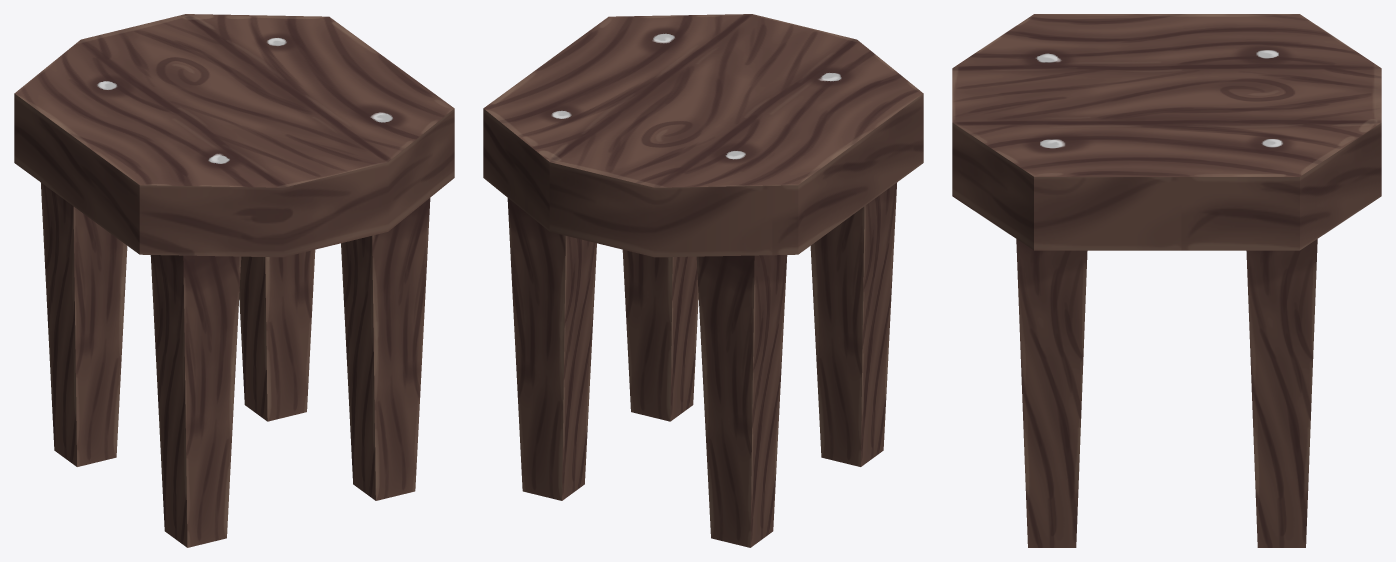
File: stool.glb
3 renders of one model, left to right at view 1: azimuth 30°, elevation 25°; view 2: azimuth 150°, elevation 25°; view 3: azimuth 270°, elevation 25°, orthographic. The views are drawn at different scales.
Parts seen in each view (by area): view 1: stool; view 2: stool; view 3: stool.
Boxes of the visible parts, bbox=[...] form: stool: bbox=[14, 14, 454, 547]; stool: bbox=[483, 14, 923, 547]; stool: bbox=[952, 14, 1381, 547].
Bounding box in the file's own units: 0.4 × 0.45 × 0.4456.
Materials: 1 (1 with a texture image).
